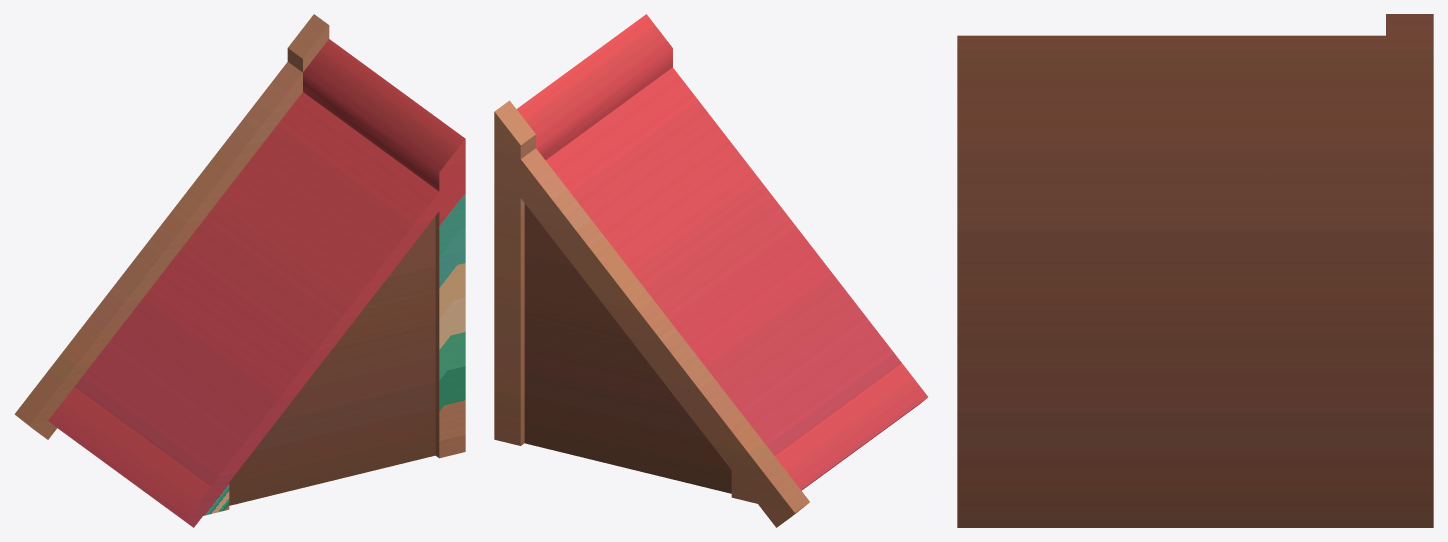
The model's file is roof-high-left.glb.
3 views of the same model, side by side, from view 1: azimuth 30°, elevation 25°; view 2: azimuth 150°, elevation 25°; view 3: azimuth 270°, elevation 25° (orthographic). The views are drawn at different scales.
Visible parts, largest first — view 1: roof-high-left; view 2: roof-high-left; view 3: roof-high-left.
Part boxes in pixels (box(x1,y1,x2,y2)): roof-high-left: box(14, 14, 465, 527); roof-high-left: box(494, 14, 927, 527); roof-high-left: box(957, 14, 1433, 527).
Bounding box in the file's own units: 1.14 × 1.26 × 1.
1 material, 1 textured.
